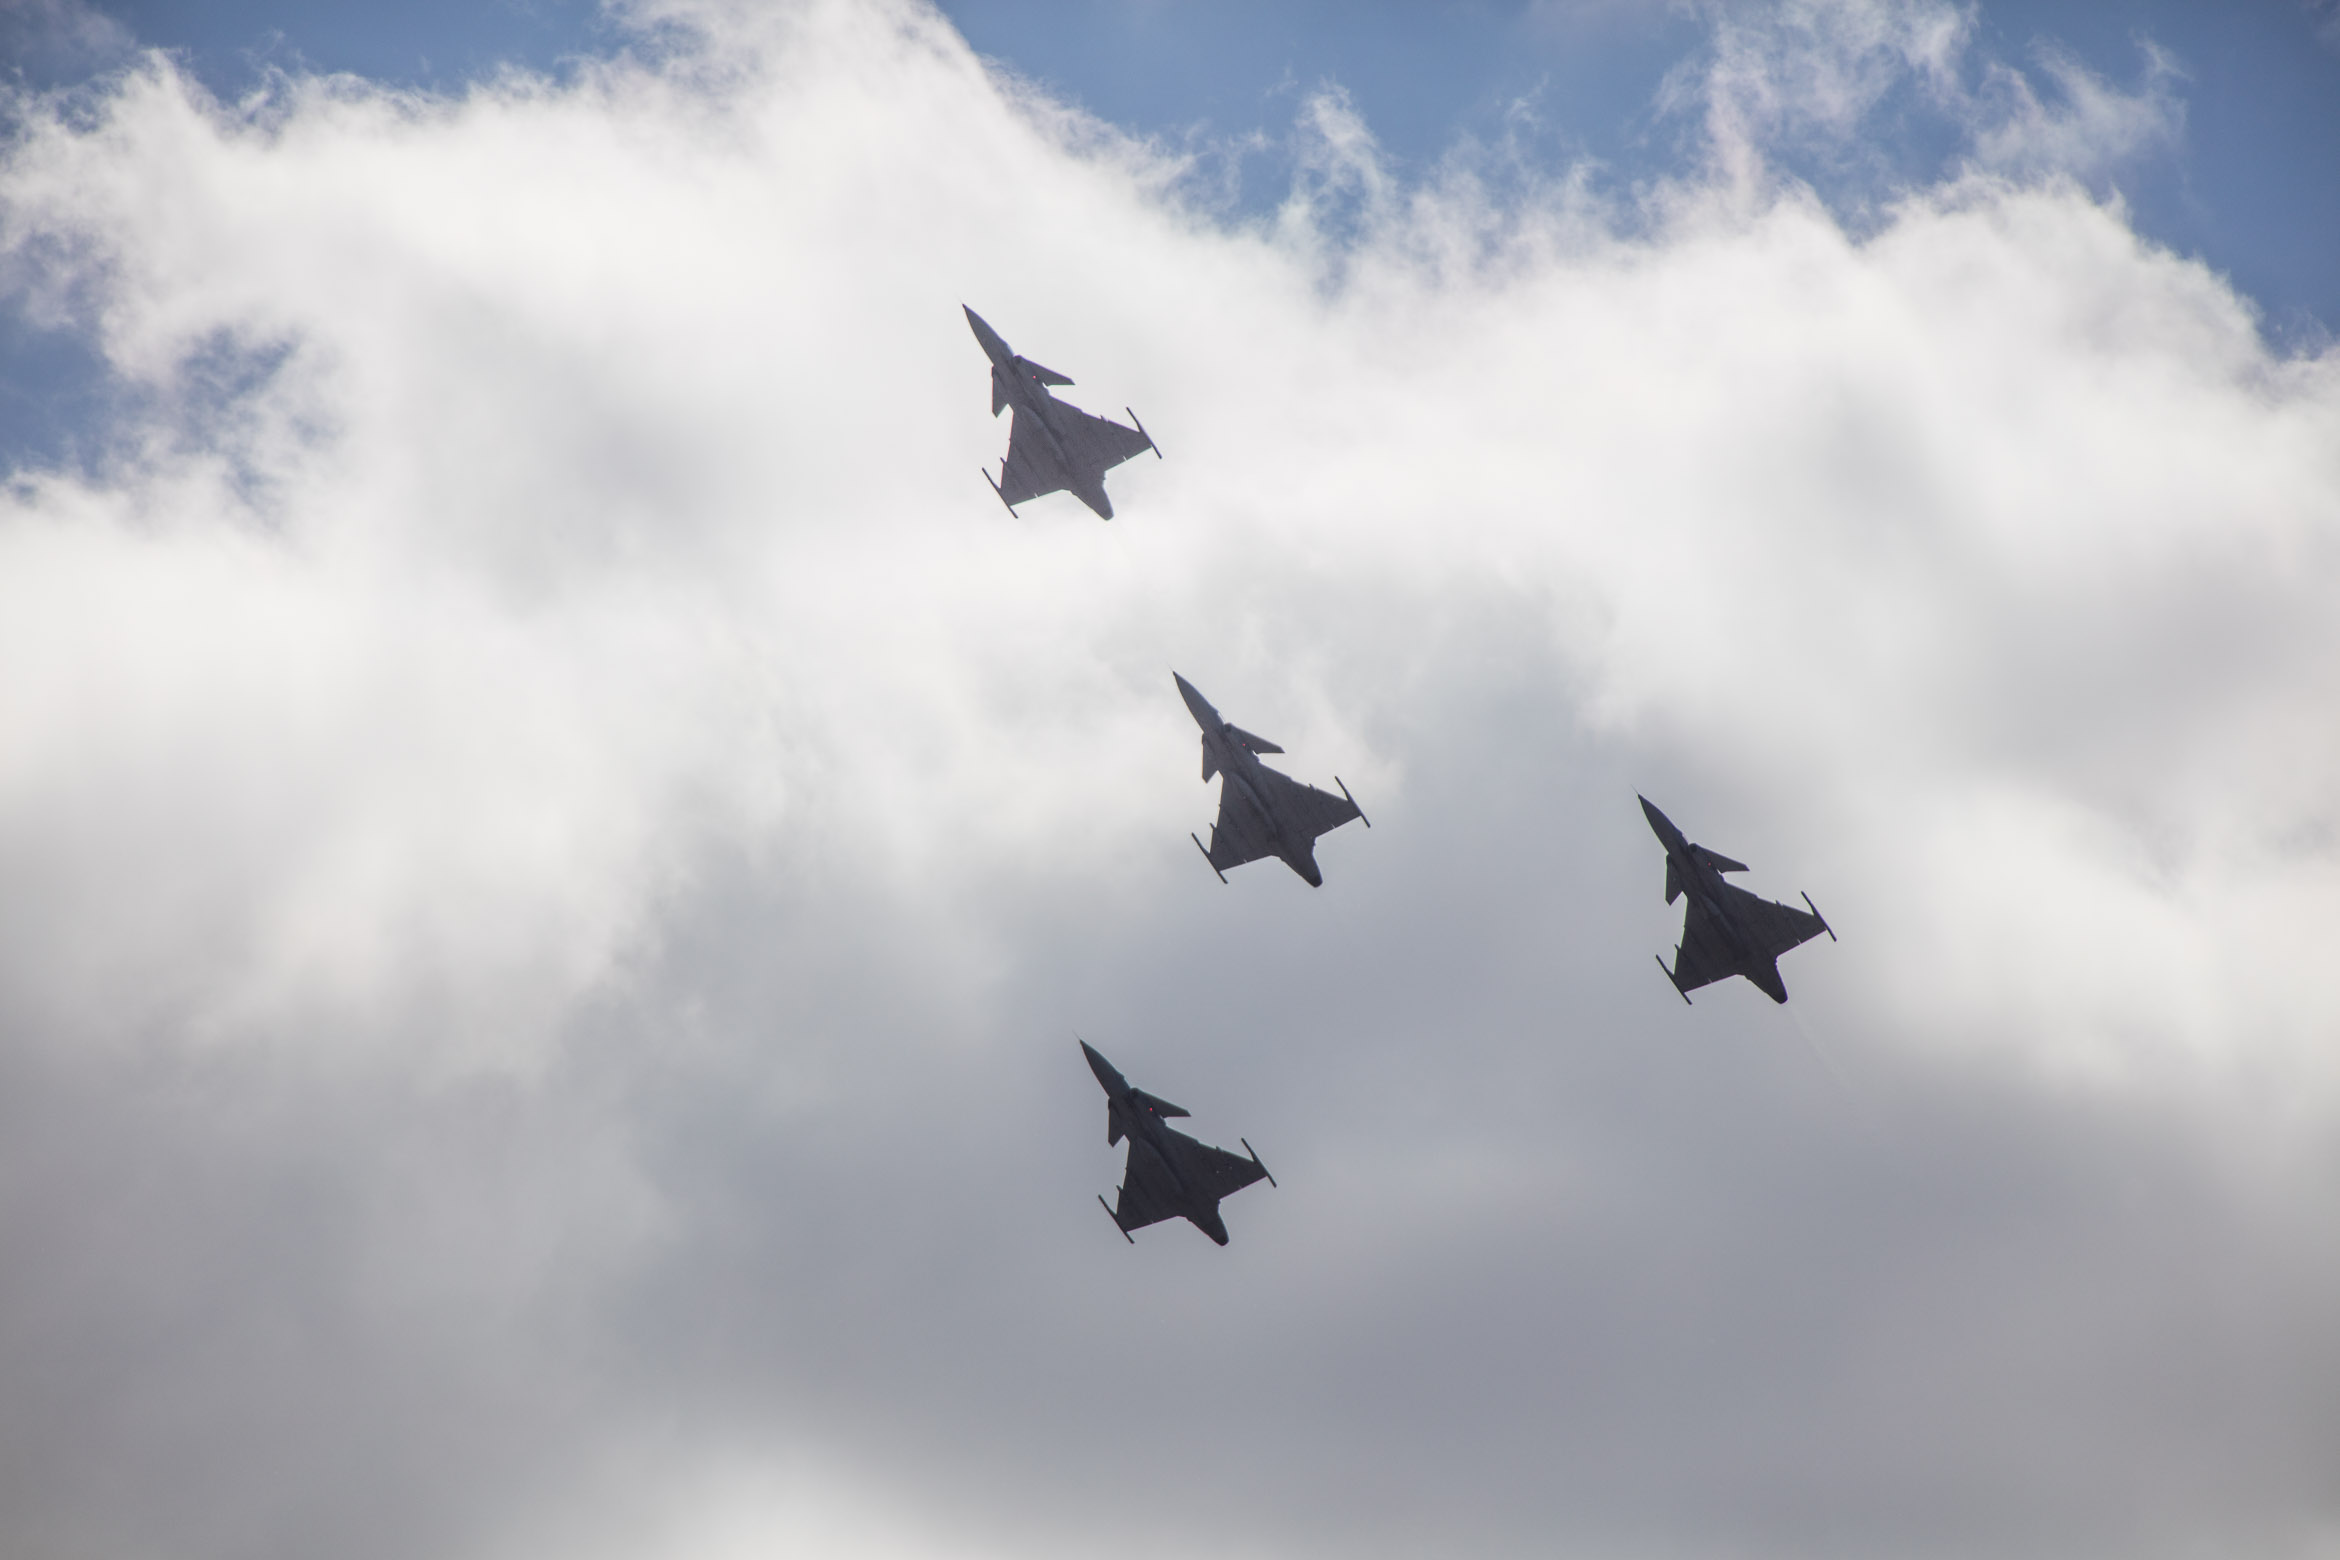JAS39: (1630, 782, 1839, 1006), (1167, 663, 1372, 890), (959, 299, 1163, 522), (1071, 1031, 1278, 1247)
